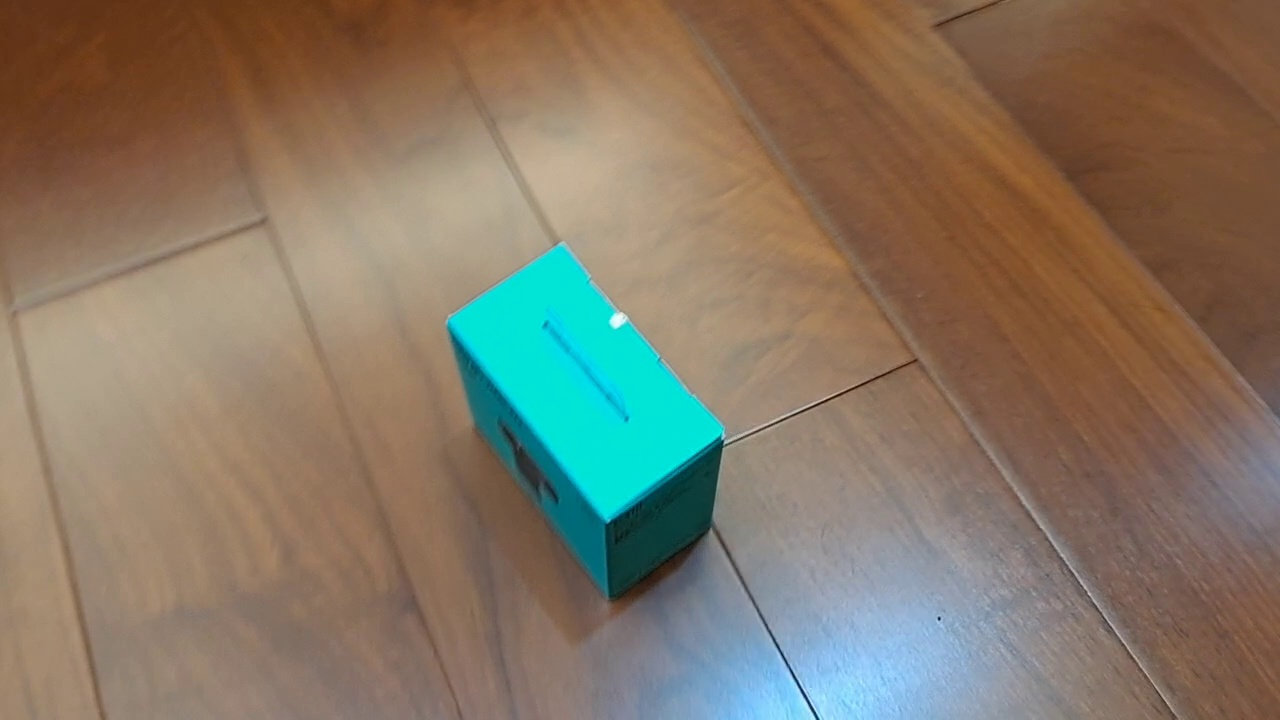webcam: (445, 241, 728, 604)
